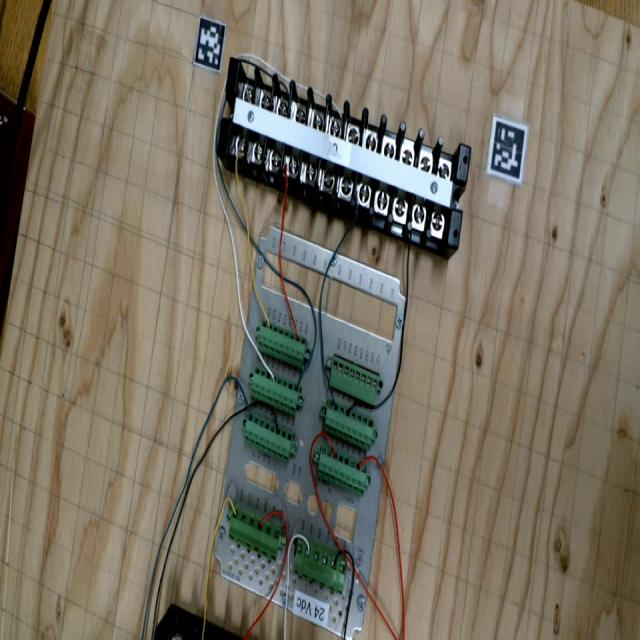Phillips_Block: (196, 54, 493, 247)
Terminal_1: (219, 503, 292, 563), (284, 536, 357, 595)
Terminal_2: (236, 410, 303, 465), (308, 443, 376, 497), (315, 398, 382, 451), (243, 364, 309, 417), (250, 320, 313, 369)
